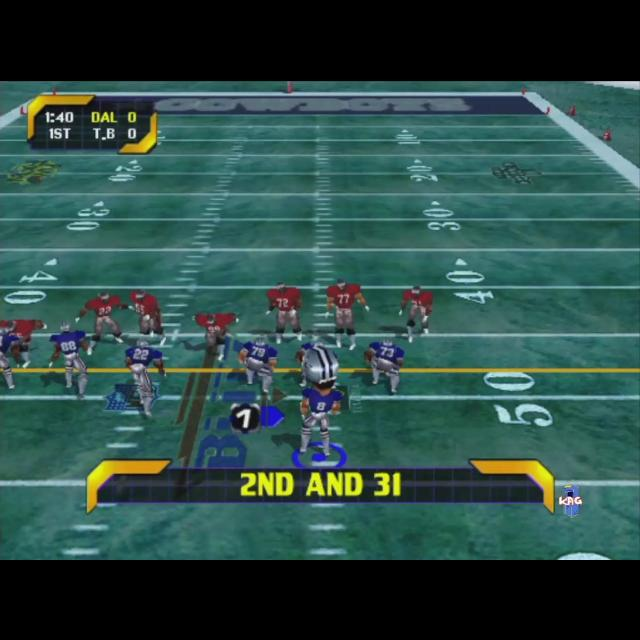player: (301, 348, 344, 456), (124, 339, 166, 417), (76, 292, 128, 354), (324, 279, 370, 349), (48, 321, 90, 397), (266, 280, 302, 344), (192, 312, 240, 360), (0, 318, 46, 368), (238, 336, 278, 392), (364, 338, 404, 392), (398, 284, 434, 342), (131, 289, 167, 345), (1, 322, 26, 388), (294, 338, 322, 388)
